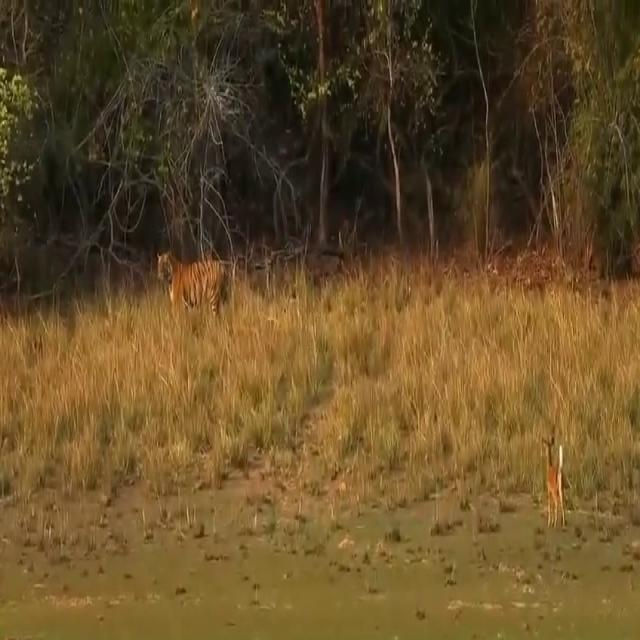tiger: (157, 250, 229, 319)
